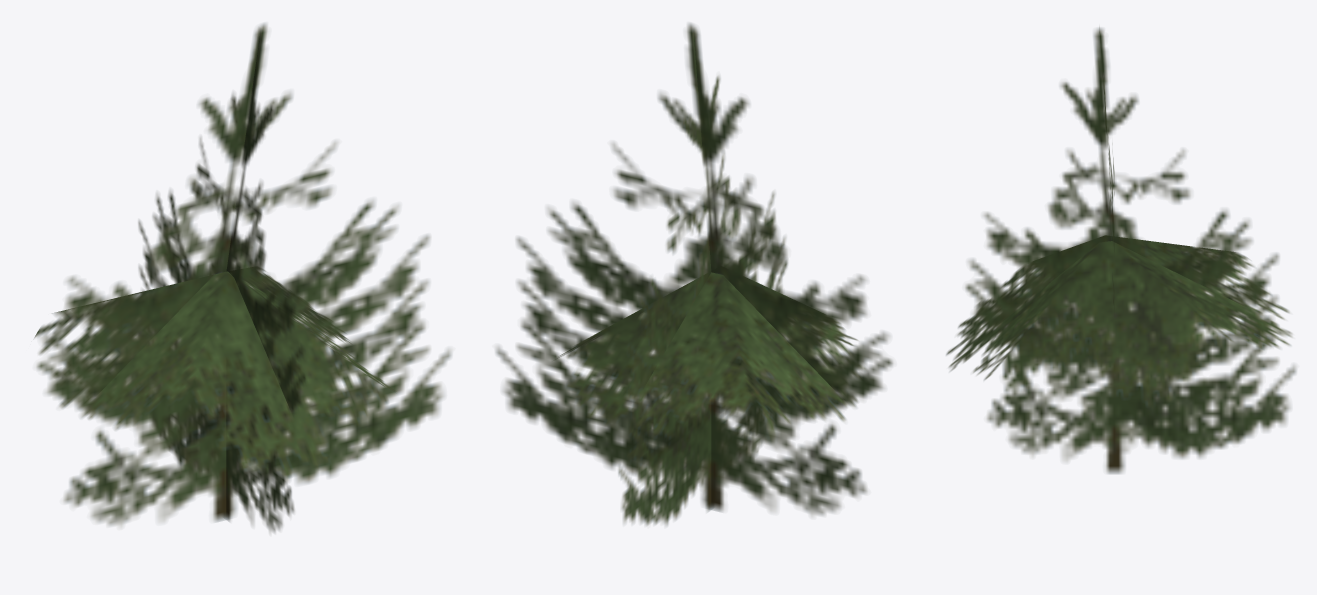
The model's file is forest_shrub_3.glb.
3 renders of one model, left to right at view 1: azimuth 30°, elevation 25°; view 2: azimuth 150°, elevation 25°; view 3: azimuth 270°, elevation 25°, orthographic. The views are drawn at different scales.
Parts seen in each view (by area): view 1: Background_Tree_Atlas.011_Background_Tree_Atlas_0; view 2: Background_Tree_Atlas.011_Background_Tree_Atlas_0; view 3: Background_Tree_Atlas.011_Background_Tree_Atlas_0.
Boxes of the visible parts, x1,y1,x2,y2 form: Background_Tree_Atlas.011_Background_Tree_Atlas_0: (34,23,451,532); Background_Tree_Atlas.011_Background_Tree_Atlas_0: (496,23,893,525); Background_Tree_Atlas.011_Background_Tree_Atlas_0: (946,27,1296,473).
Size of the model in its own units: 0.9137 by 1.02 by 0.7089.
1 material, 1 textured.
